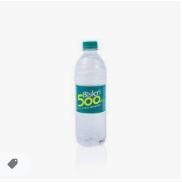plastic: (75, 42, 107, 146)
